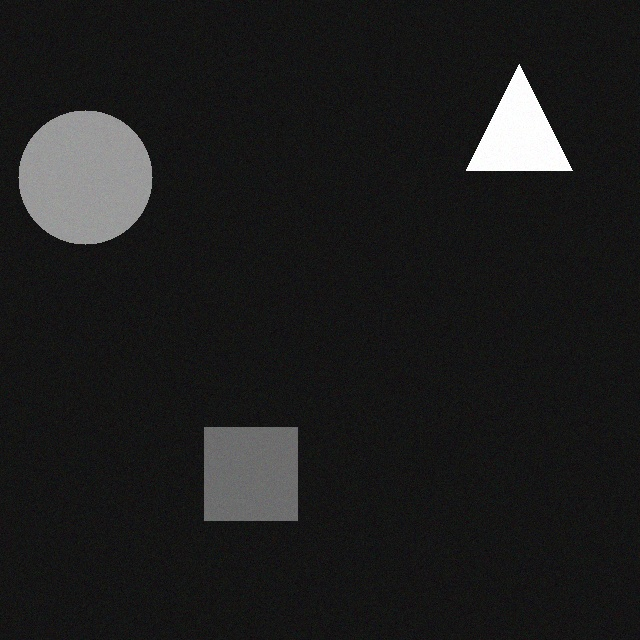circle: (16, 118, 150, 252)
square: (202, 435, 295, 528)
triangle: (464, 72, 570, 178)
